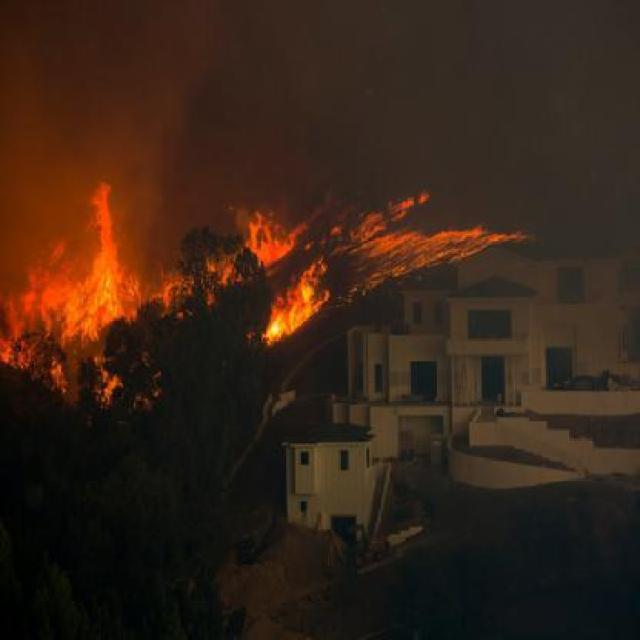Fire: (0, 173, 137, 412), (378, 188, 527, 272), (238, 205, 306, 270), (142, 270, 192, 316), (265, 296, 298, 338), (286, 278, 326, 308)
